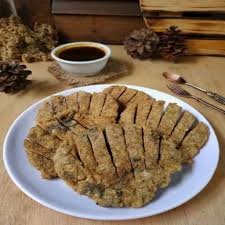Pempek kulit: (52, 127, 188, 210), (118, 96, 209, 145), (26, 109, 64, 182), (37, 86, 115, 117)
